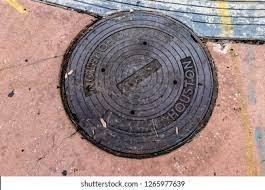closed manhole-not overflowing-: (57, 8, 219, 165)
